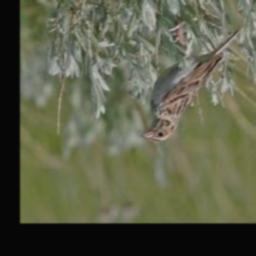Sparrow: (140, 17, 244, 144)
